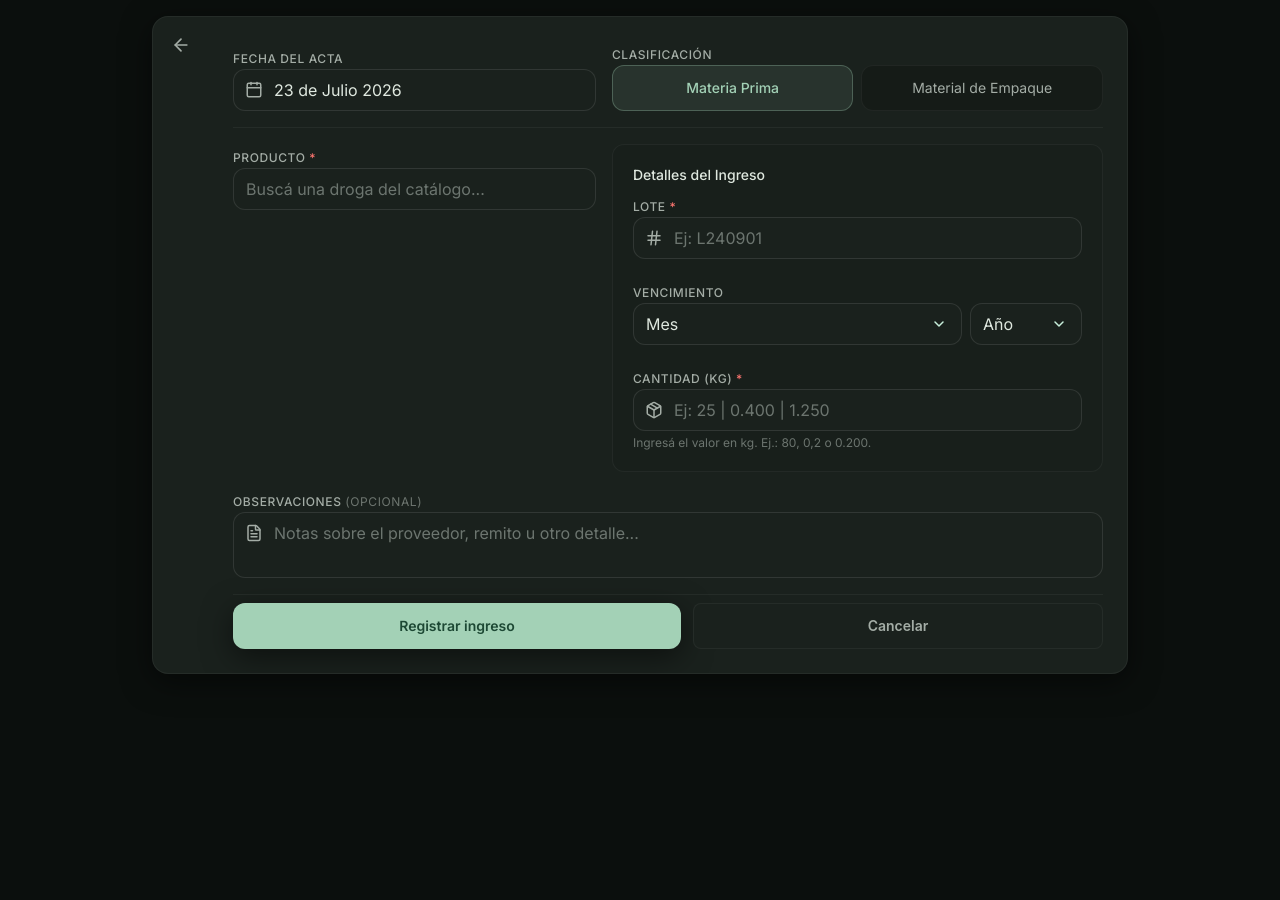
Test: ActaNuevaPage › displays server error on failed submission
Note: Select product
Step 1. Type "AMOXICILINA" into the dropdown with placeholder "Buscá una droga del catálogo..." → (414, 189), box [233,168,596,210]
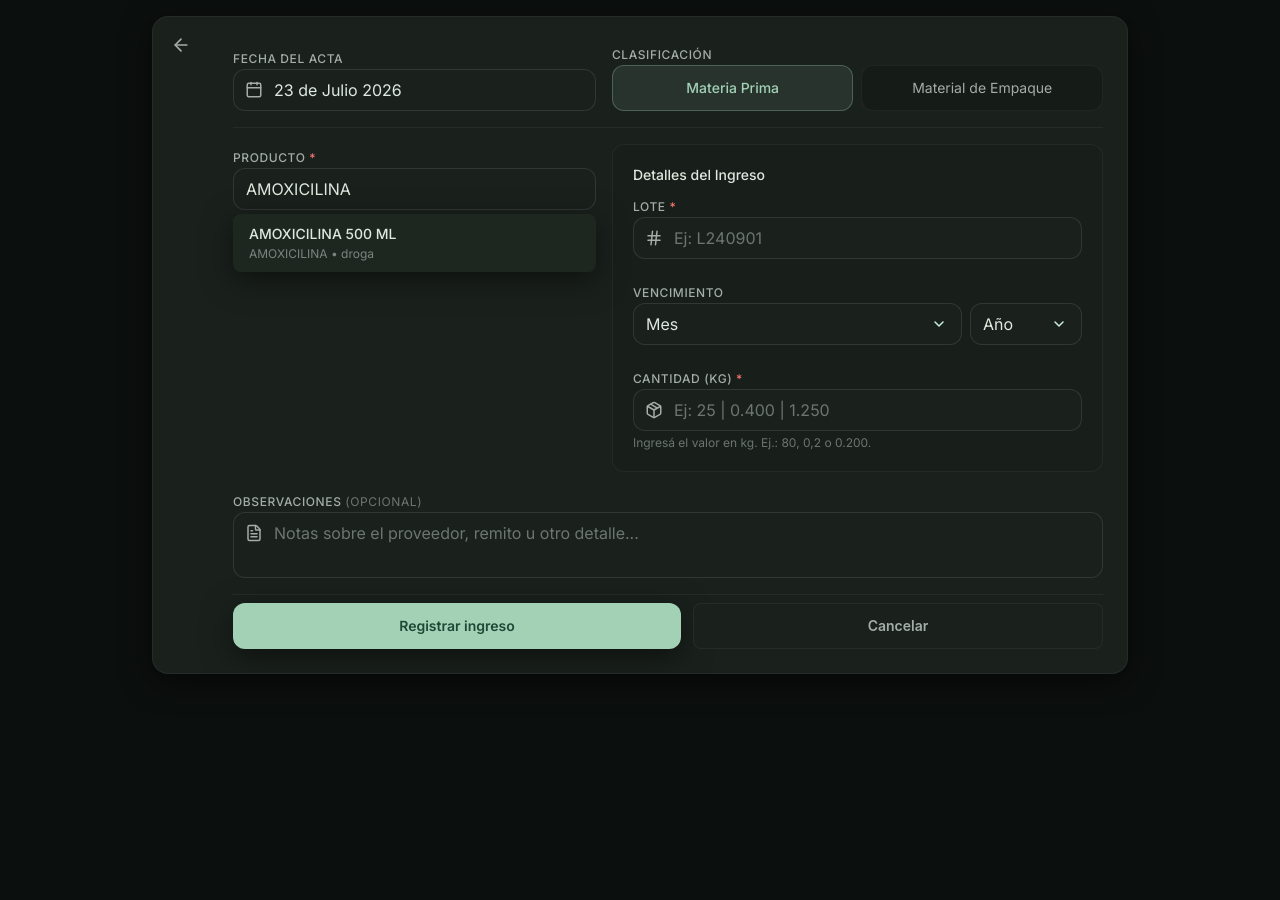
Expected: the text "AMOXICILINA 500 ML" is shown
Step 2. Press the mouse on the text "AMOXICILINA 500 ML" → (323, 234), box [249,225,396,242]
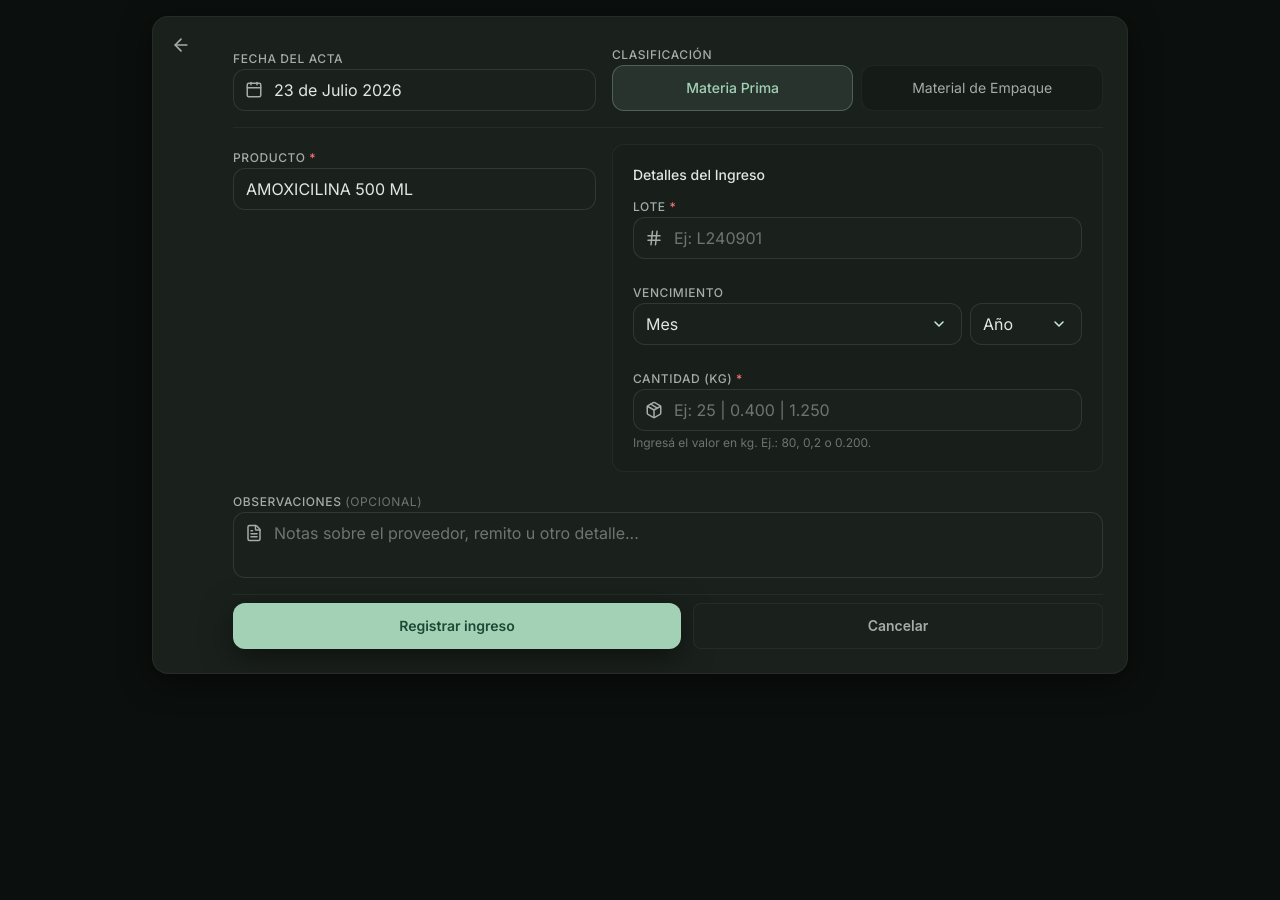
Note: Fill cantidad
Step 3. Type "100" into the field labelled "Cantidad (kg) *" → (857, 410), box [633,389,1082,431]
Step 4. Type "MP-001" into the field labelled "Lote *" → (857, 238), box [633,217,1082,259]
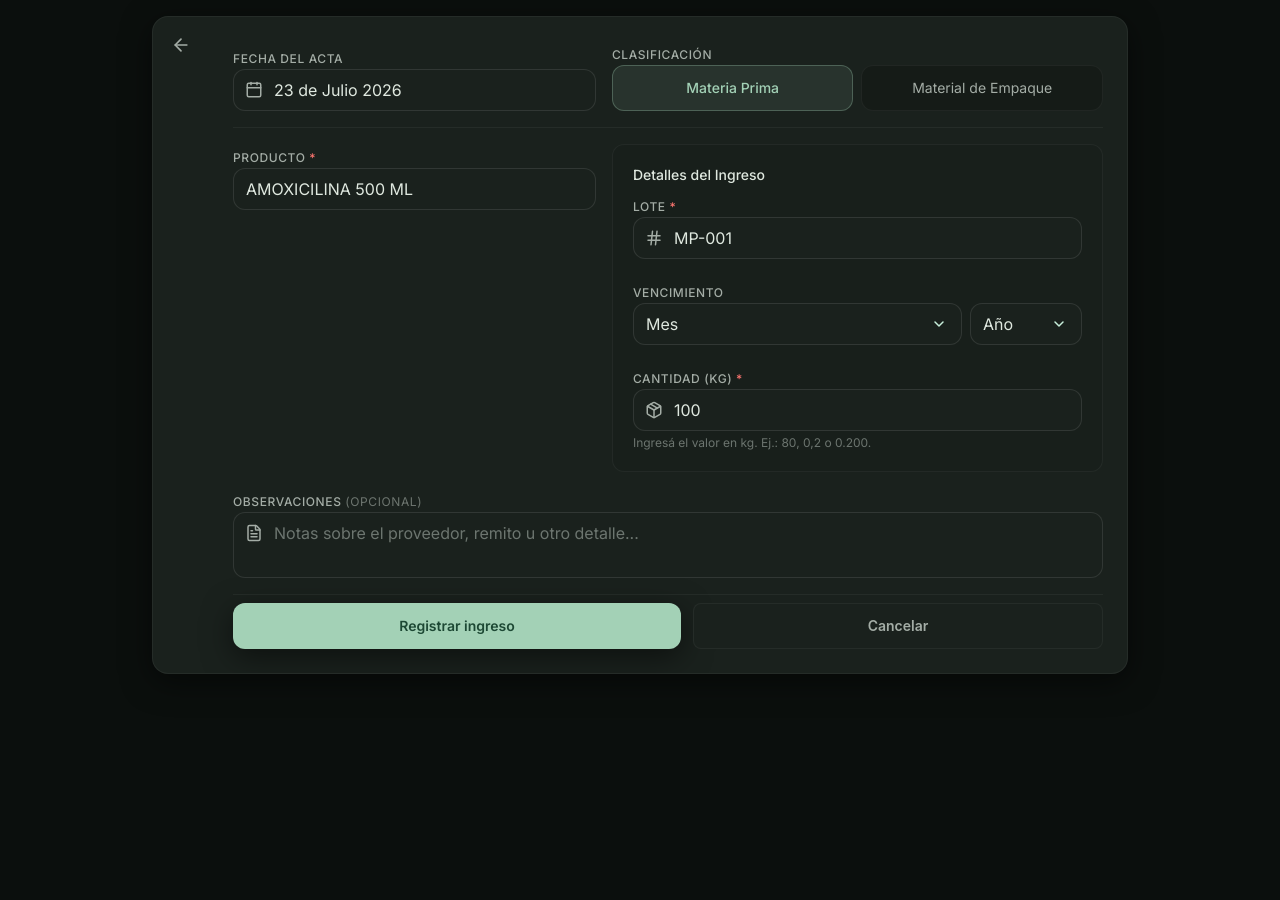
Step 5. Select "Julio" in the dropdown named "Mes de vencimiento" → (797, 324), box [633,303,962,345]
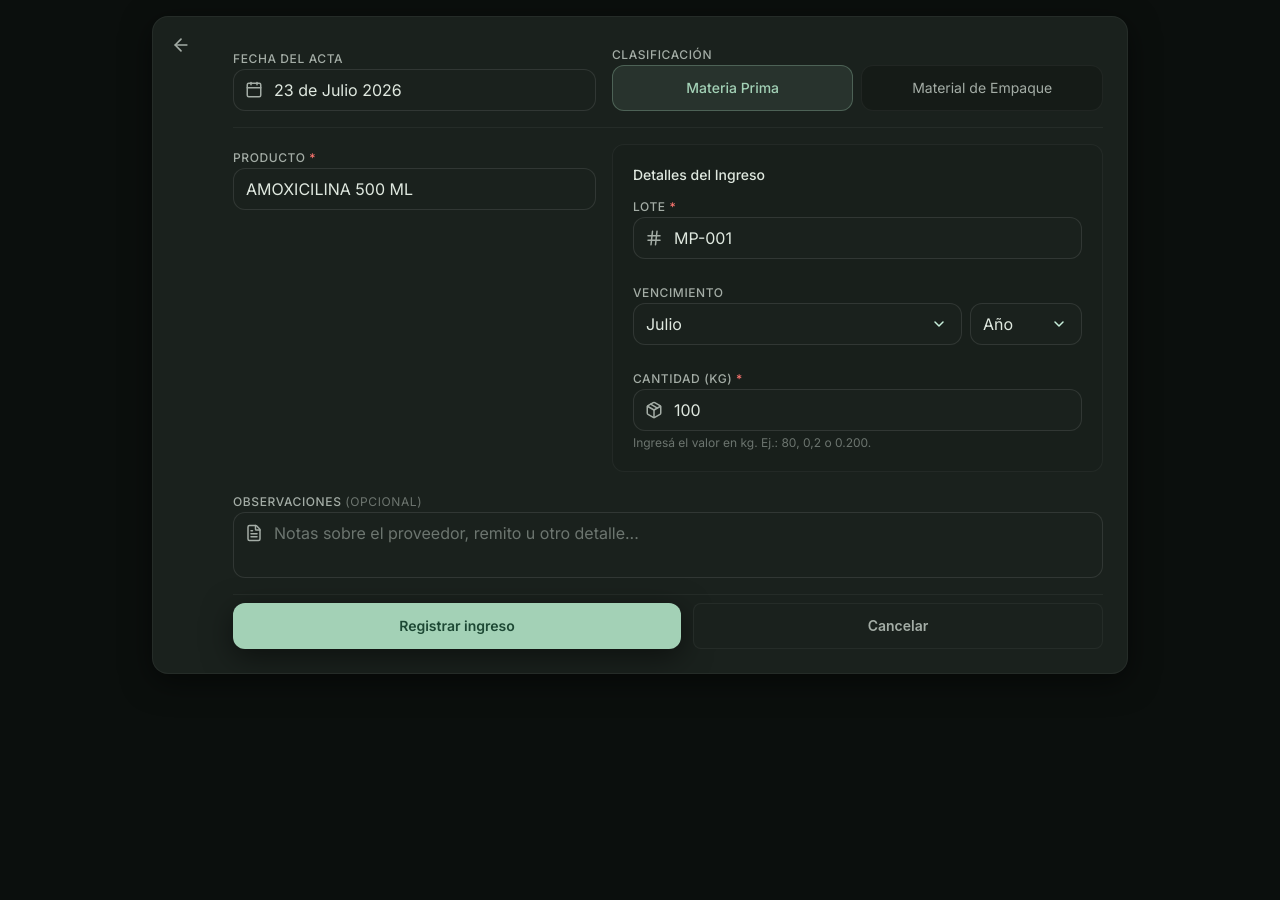
Step 6. Select "2027" in the dropdown named "Año de vencimiento" → (1026, 324), box [970,303,1082,345]
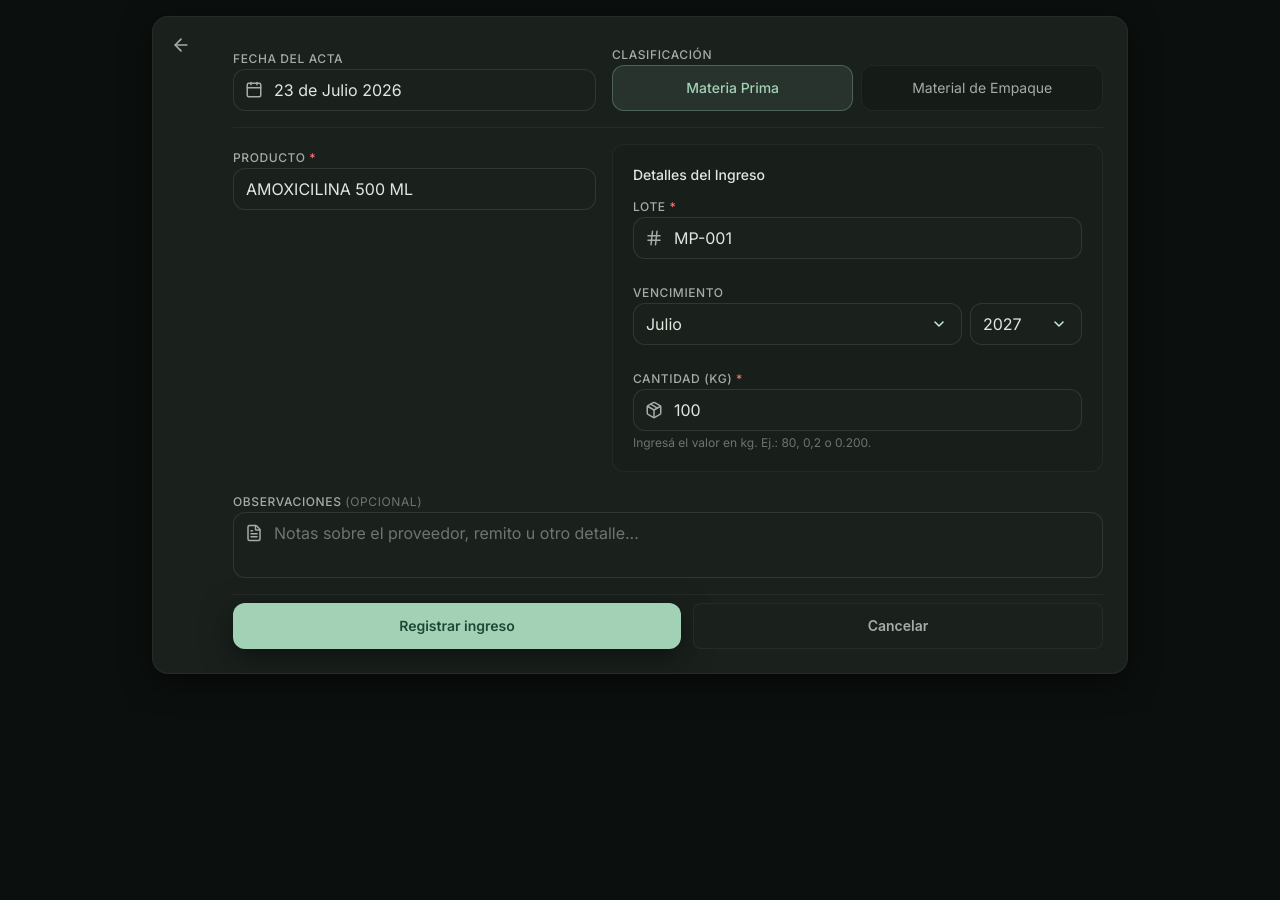
Step 7. Click the button "Registrar ingreso" → click(457, 626), box [233,603,681,649]
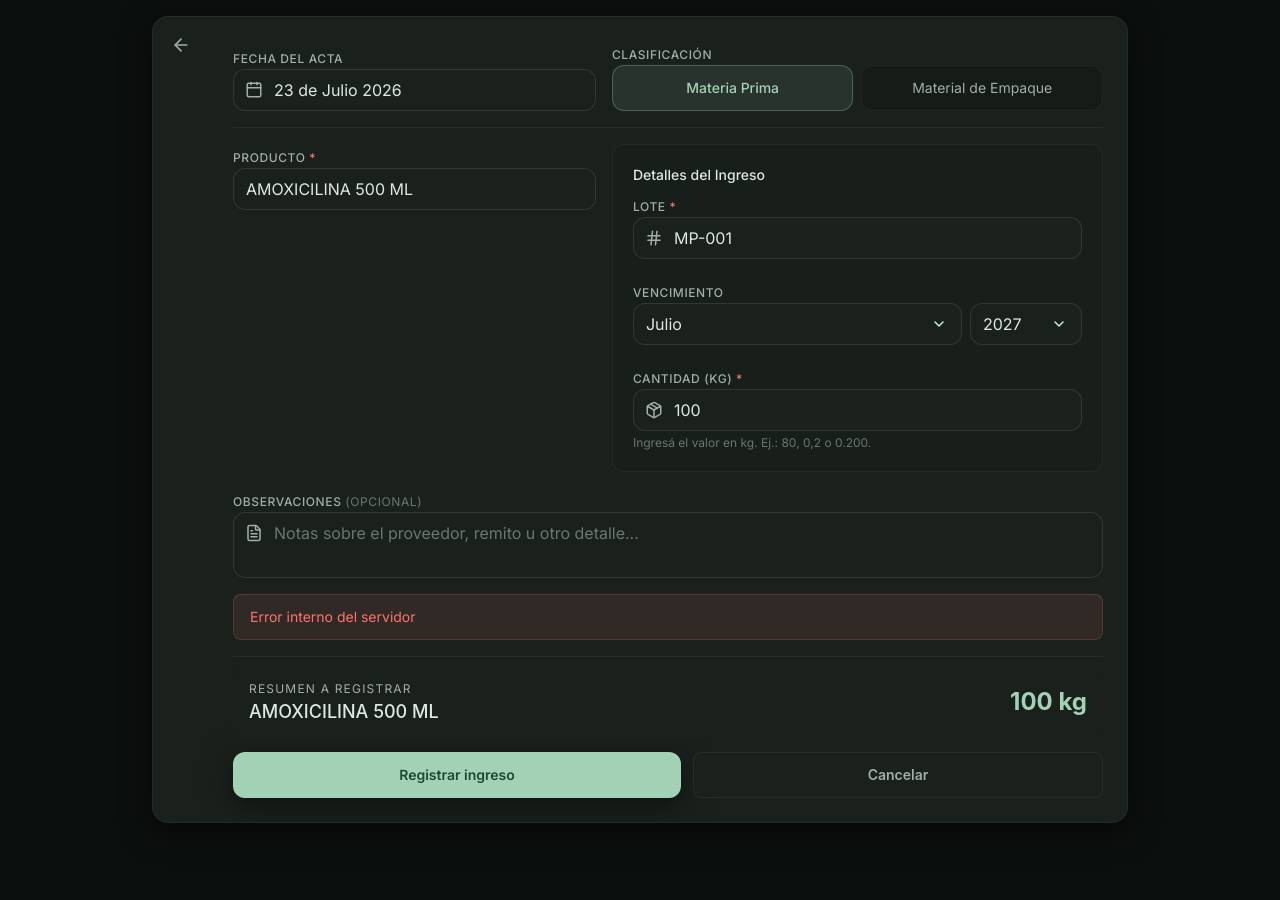
Expected: the text "Error interno del servidor" is shown, [233,594,1103,640]
